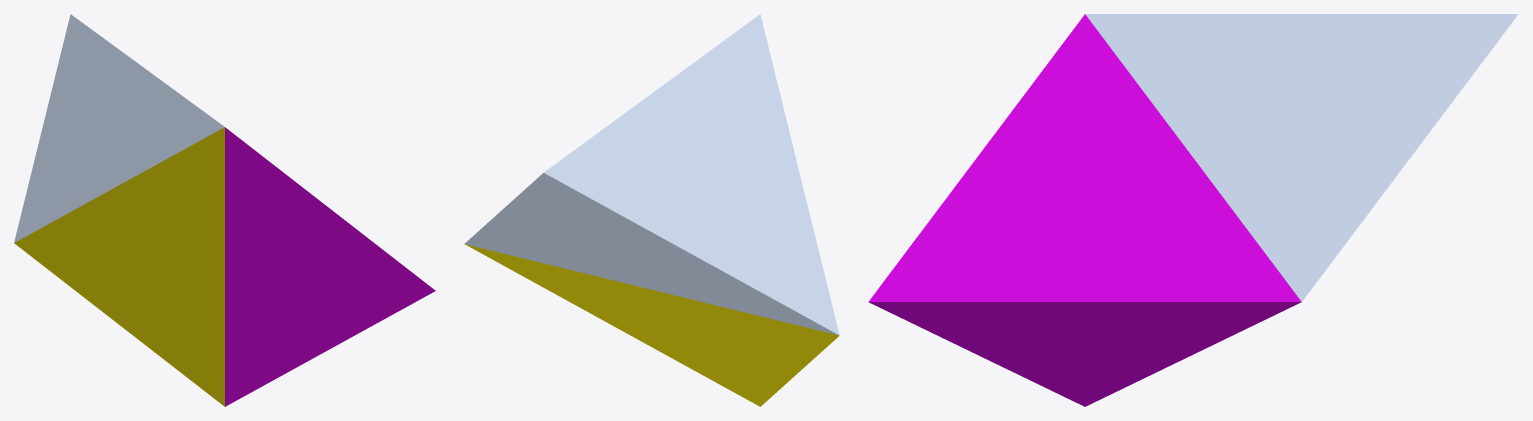
The model's file is TetragonalDisphenoidal_3_1.glb.
3 renders of one model, left to right at view 1: azimuth 30°, elevation 25°; view 2: azimuth 150°, elevation 25°; view 3: azimuth 270°, elevation 25°, orthographic. The views are drawn at different scales.
Bounding box in the file's own units: 4 × 4 × 6.
